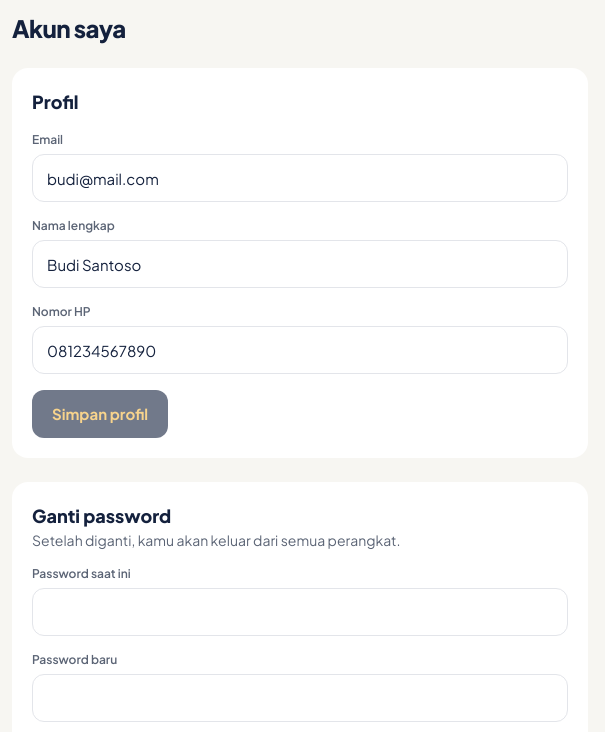
AccountPage — profil › error yang tidak terkait field → banner error
Step 1. Replace the text in the field labelled "Nama lengkap" with "Budi Baru" → (300, 264), box [32,240,568,288]
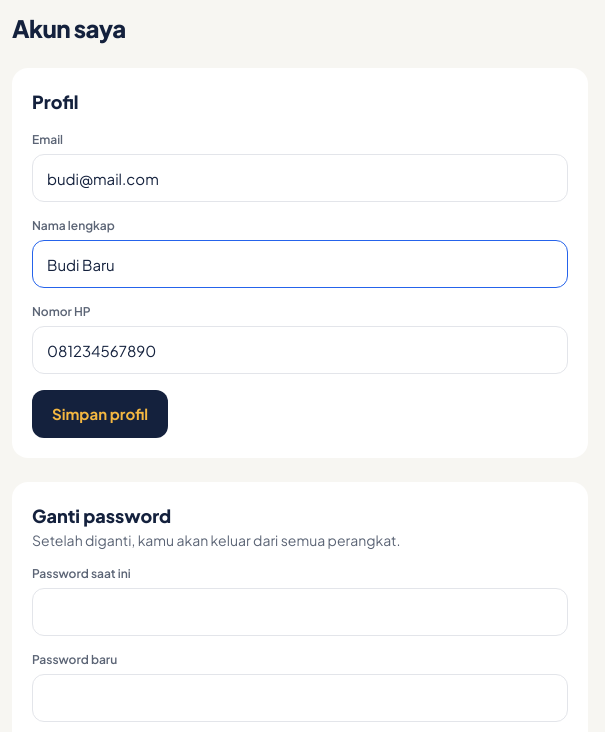
Step 2. Click the button "Simpan profil" → click(100, 414), box [32,390,168,438]
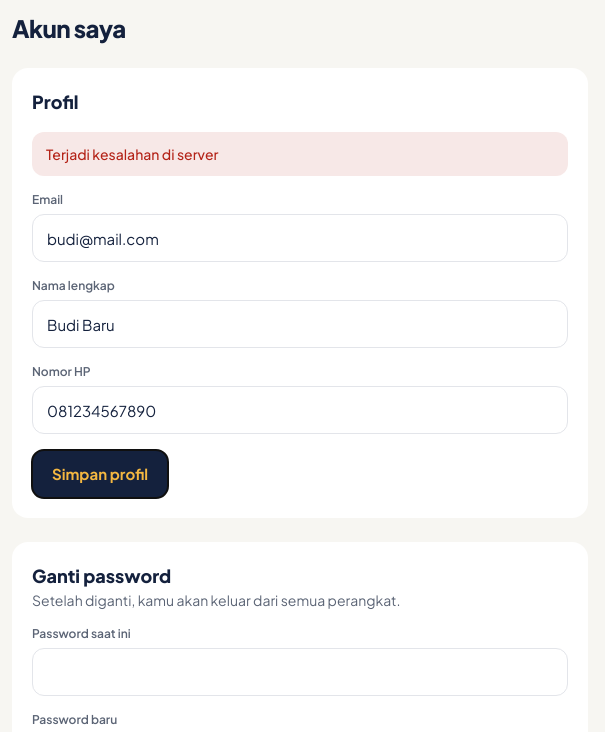
Check: the text "Terjadi kesalahan di server" is shown, box [32,132,568,176]
